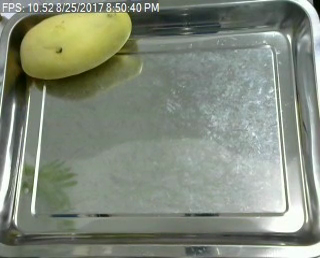Mango: (14, 4, 140, 84)
